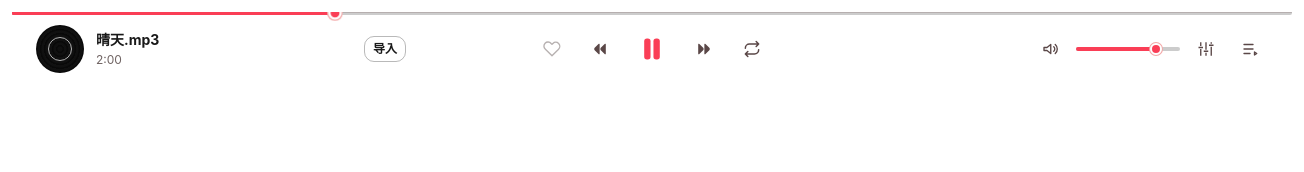
Test case: PlayerBar (task 11.7) — temporary item label › shows 导入中 and ignores repeated clicks until the request completes
Click the button "导入" at point(385, 49), box left=364, top=36, right=406, bottom=62
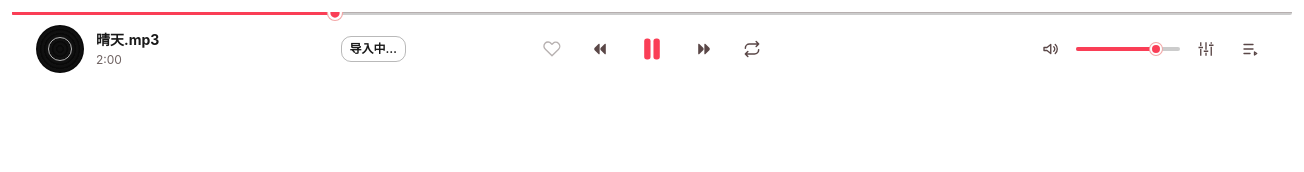
Check: the button "导入中…" is disabled
Check: the button "导入中…" is shown
Click the button "导入中…" at point(373, 49), box left=340, top=36, right=406, bottom=62
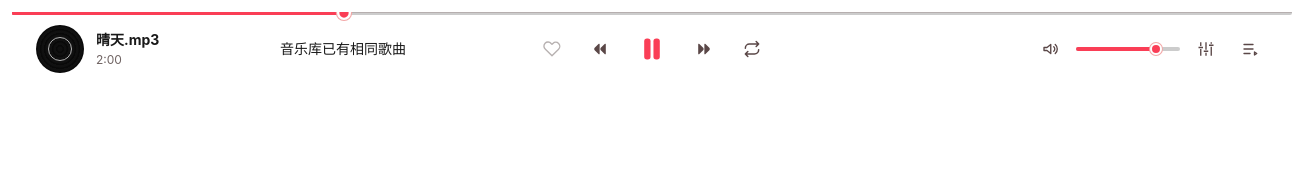
Check: the text with test id "player-import-result" reads "音乐库已有相同歌曲", box left=280, top=40, right=406, bottom=57
